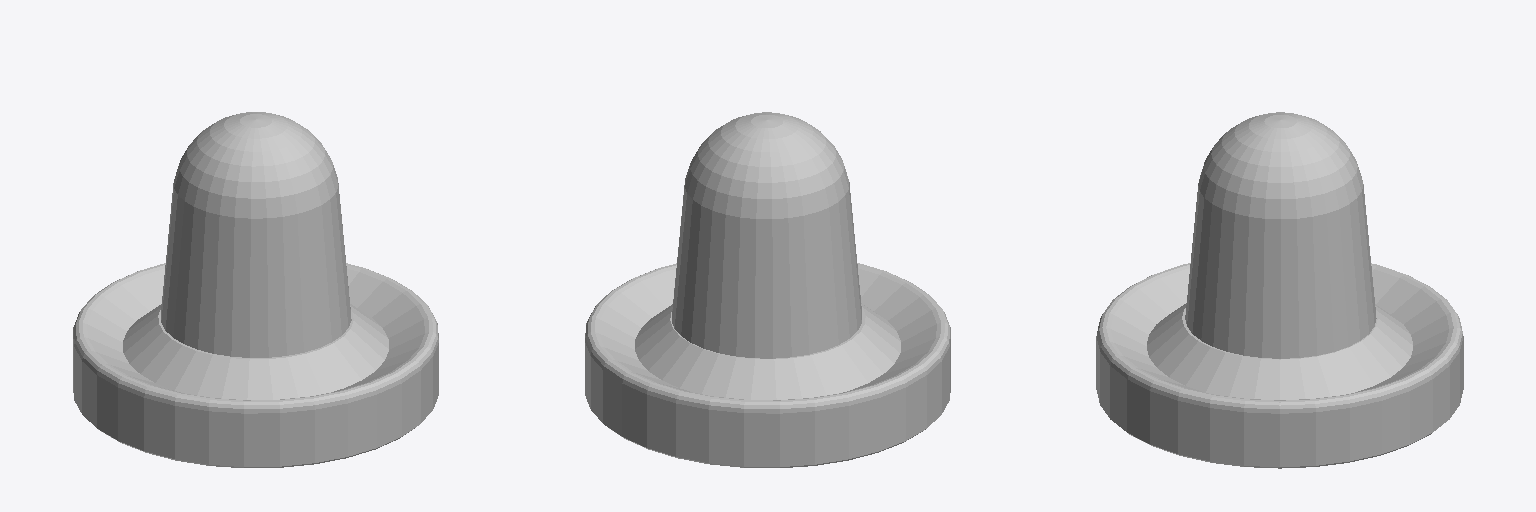
File: paddle.obj
3 views of the same model, side by side, from view 1: azimuth 30°, elevation 25°; view 2: azimuth 150°, elevation 25°; view 3: azimuth 270°, elevation 25° (orthographic).
Size of the model in its own units: 1.75 by 1.43 by 1.75.